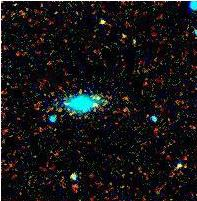star: (100, 22, 130, 52)
